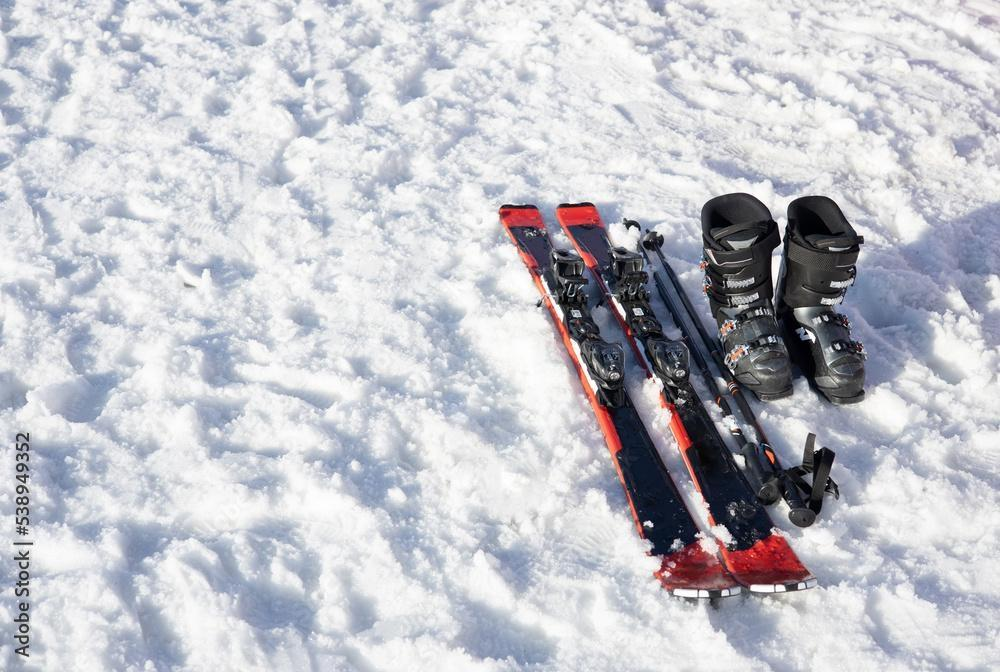Skis: (496, 183, 840, 628)
